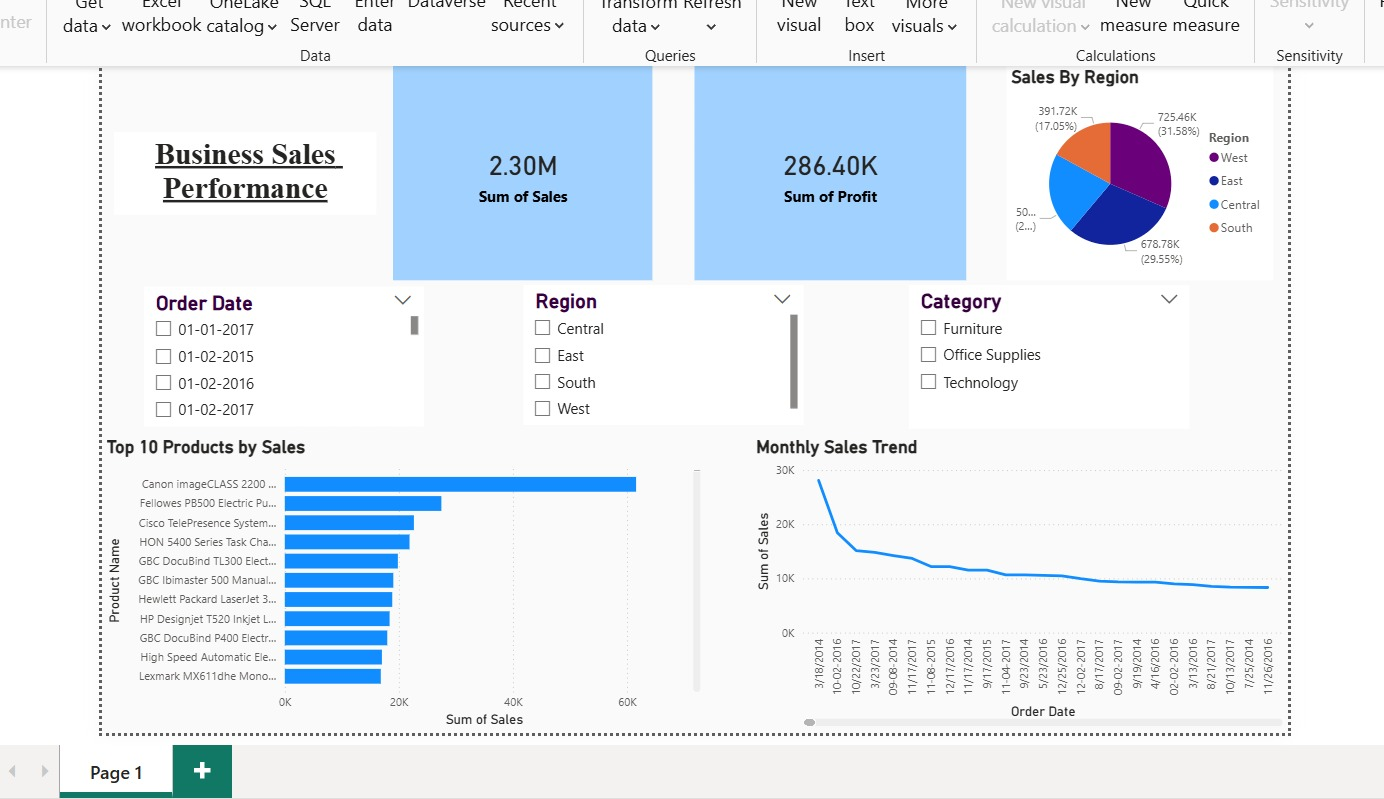

What the dashboard file says about the page in this screenshot:
{"tool":"powerbi","page":{"name":"Page 1","canvas":[1280,720],"ordinal":0},"visuals":[{"type":"card","fields":{"Values":["Sum(Sample___Superstore.Sales)"]},"box":[314.1,0,280.1,231.5],"z":0},{"type":"card","fields":{"Values":["Sum(Sample___Superstore.Profit)"]},"box":[639.6,0,293.1,231.5],"z":1000},{"type":"clusteredBarChart","title":"Top 10 Products by Sales","fields":{"Category":["Sample___Superstore.Product Name"],"Y":["Sum(Sample___Superstore.Sales)"]},"box":[0,399.9,650.9,317.4],"z":2000},{"type":"lineChart","title":"Monthly Sales Trend","fields":{"Y":["Sum(Sample___Superstore.Sales)"],"Category":["Sample___Superstore.Order Date"]},"box":[701.1,399.9,578.1,317.4],"z":3000},{"type":"pieChart","title":"Sales By Region","fields":{"Category":["Sample___Superstore.Region"],"Y":["Sum(Sample___Superstore.Sales)"]},"box":[976.4,0,288.2,231.5],"z":4000},{"type":"slicer","fields":{"Values":["Sample___Superstore.Region"]},"box":[455,236.4,301.2,150.6],"z":5000},{"type":"slicer","fields":{"Values":["Sample___Superstore.Order Date"]},"box":[45.3,238,301.2,150.6],"z":6000},{"type":"slicer","fields":{"Values":["Sample___Superstore.Category"]},"box":[871.1,236.4,302.8,155.4],"z":6001},{"type":"textbox","box":[13,71.2,283.4,89.1],"z":6002}]}

Visuals, with their boxes on the page's 1280x720 design canvas (x1, y1, x2, y2). These are canvas units, not pixel positions in the 1384x799 screenshot, which may show the page scaled, cropped or inside an application window:
card - Sum(Sample___Superstore.Sales): Rect(314, 0, 594, 232)
card - Sum(Sample___Superstore.Profit): Rect(640, 0, 933, 232)
"Top 10 Products by Sales" clusteredBarChart: Rect(0, 400, 651, 717)
"Monthly Sales Trend" lineChart: Rect(701, 400, 1279, 717)
"Sales By Region" pieChart: Rect(976, 0, 1265, 232)
slicer - Sample___Superstore.Region: Rect(455, 236, 756, 387)
slicer - Sample___Superstore.Order Date: Rect(45, 238, 346, 389)
slicer - Sample___Superstore.Category: Rect(871, 236, 1174, 392)
textbox: Rect(13, 71, 296, 160)
